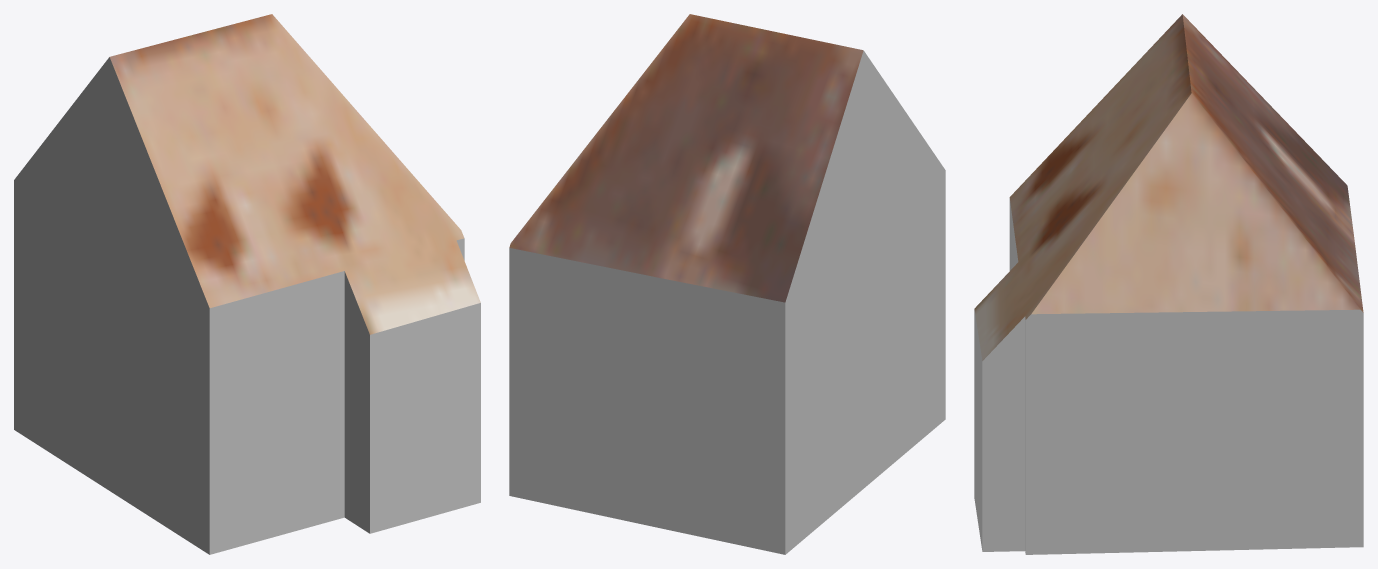
File: DEBW_0010007TxeP.gltf
The picture shows the model from 3 angles, left to right: view 1: azimuth 30°, elevation 25°; view 2: azimuth 150°, elevation 25°; view 3: azimuth 270°, elevation 25°; orthographic projection. The views are drawn at different scales.
Visible parts, largest first — view 1: Z_UP; view 2: Z_UP; view 3: Z_UP.
Part boxes in pixels (x1,y1,x2,y2): Z_UP: (14, 14, 480, 554); Z_UP: (509, 14, 945, 554); Z_UP: (974, 14, 1363, 554).
Bounding box in the file's own units: 8.54 × 12.57 × 10.71.
Materials: 2 (1 with a texture image).
